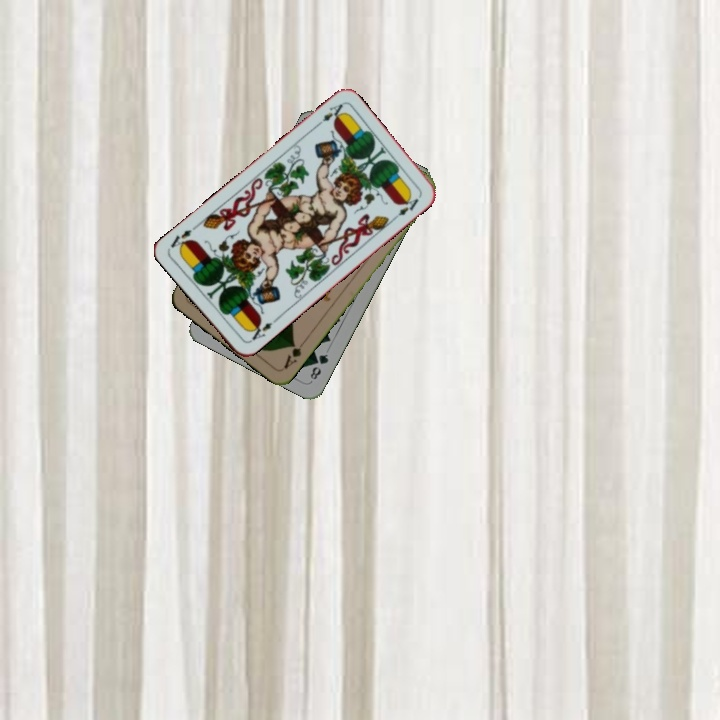EA: (245, 314, 280, 345), (311, 99, 345, 130)
G8: (306, 350, 331, 382)
GA: (280, 336, 308, 372)
